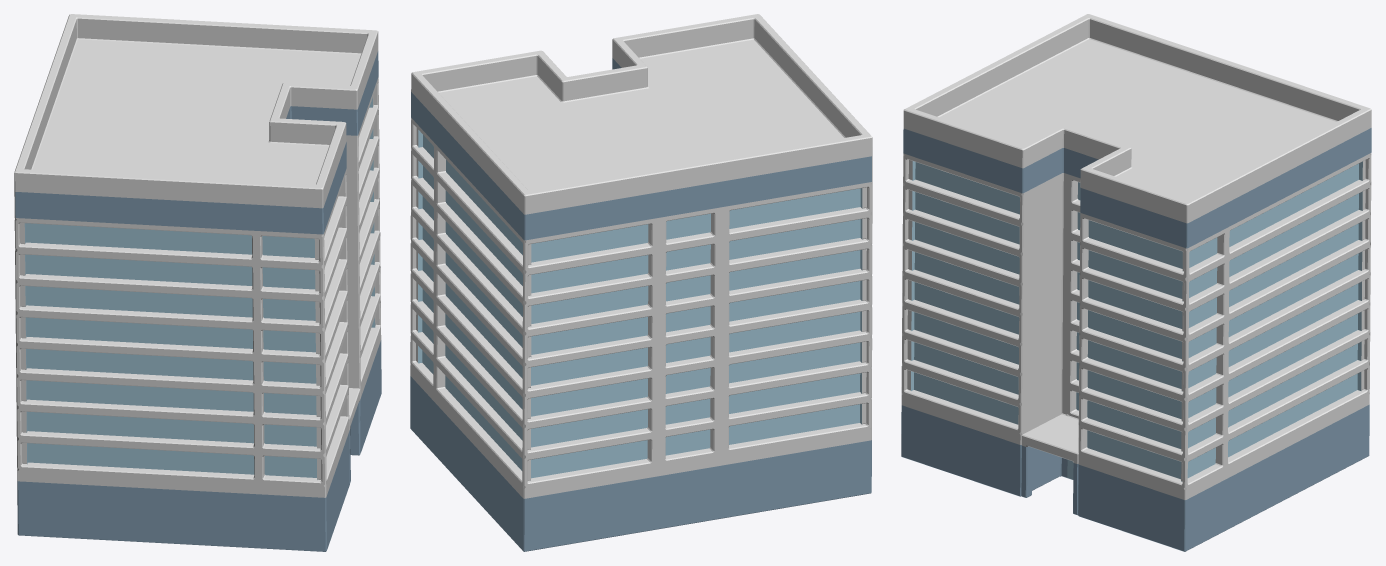
File: Building16.fbx
The picture shows the model from 3 angles, left to right: view 1: azimuth 30°, elevation 25°; view 2: azimuth 150°, elevation 25°; view 3: azimuth 270°, elevation 25°; orthographic projection. The views are drawn at different scales.
Visible parts, largest first — view 1: Cube.041, Cube.054, Cube.082; view 2: Cube.041, Cube.054, Cube.082; view 3: Cube.041, Cube.054, Cube.082.
Boxes of the visible parts, x1,y1,x2,y2 form: Cube.041: (14, 14, 381, 497); Cube.054: (24, 97, 375, 479); Cube.082: (15, 51, 381, 551); Cube.041: (410, 14, 872, 498); Cube.054: (418, 130, 862, 480); Cube.082: (410, 58, 871, 551); Cube.041: (901, 14, 1371, 499); Cube.054: (911, 161, 1362, 481); Cube.082: (901, 128, 1371, 551).
Size of the model in its own units: 3580 by 3000 by 3662.
